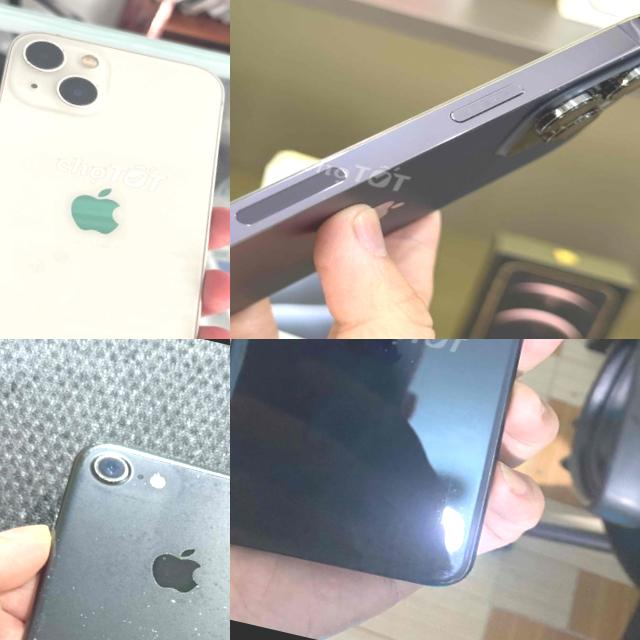gen_12_13: (0, 16, 230, 339)
gen_14: (230, 14, 640, 314)
gen_7_8: (230, 339, 584, 608), (0, 426, 230, 640)
